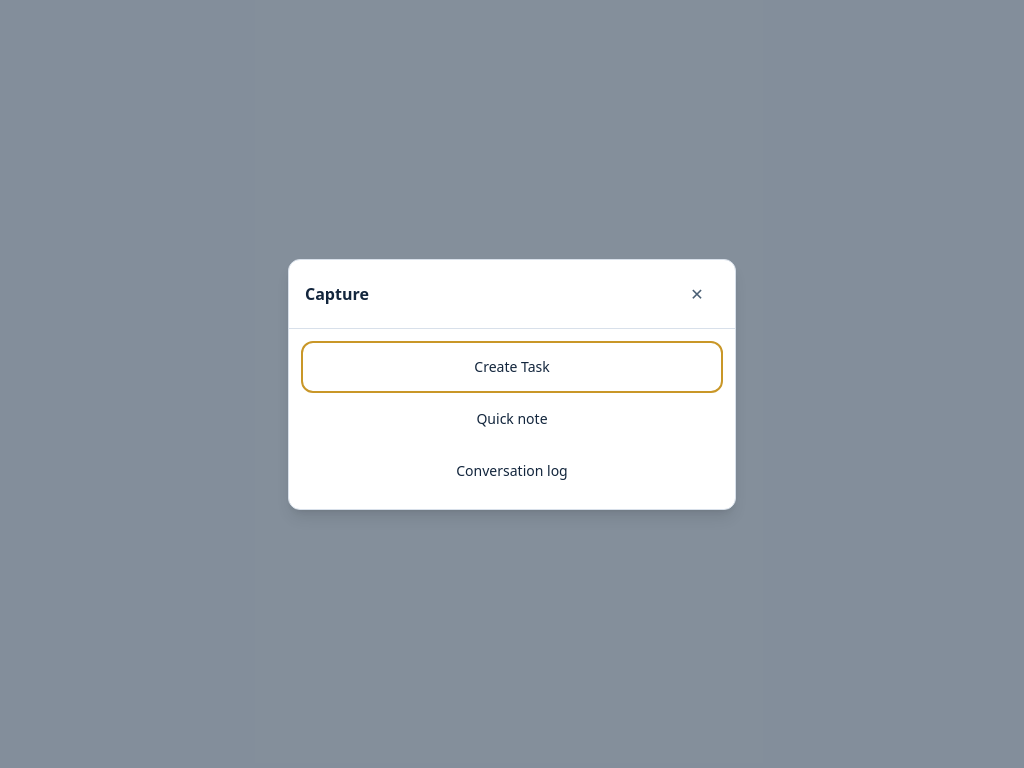
Test: a durable save › says saved, and only for a persisted receipt
The width and height of the screenshot is (1024, 768).
Click the button with test id "capture-choice-quick_note" at (512, 418), box [305,396,719,440]
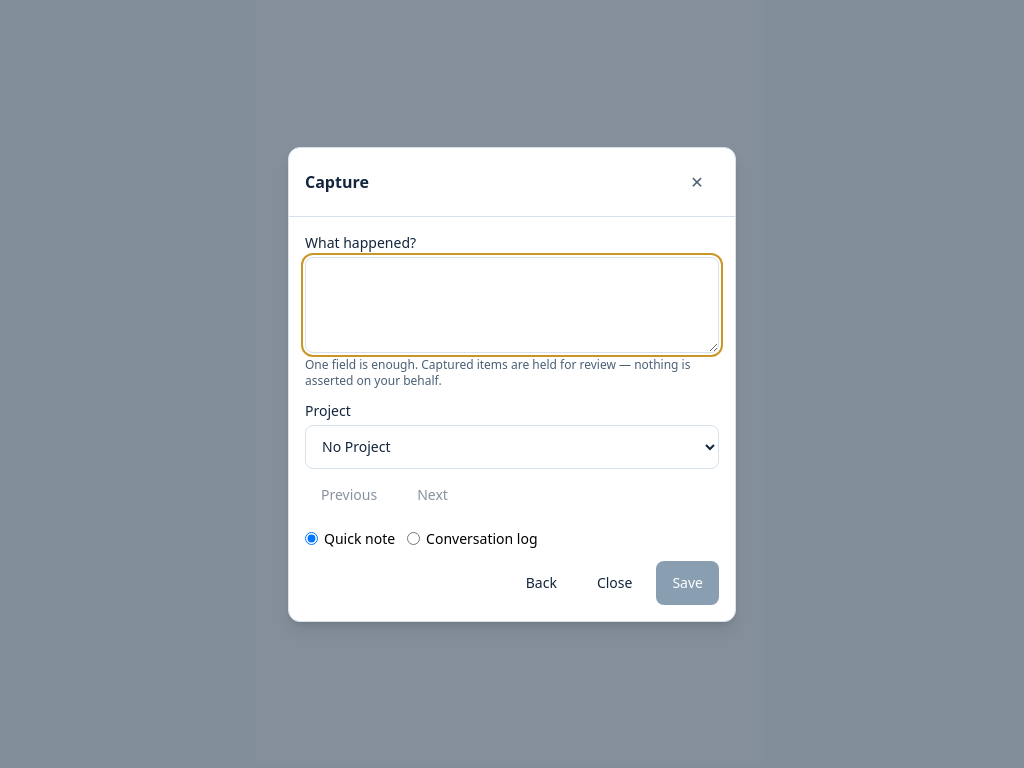
Type "synthetic note epsilon — flange tolerance review" into the text box with test id "capture-field" at (512, 304), box [305,256,719,352]
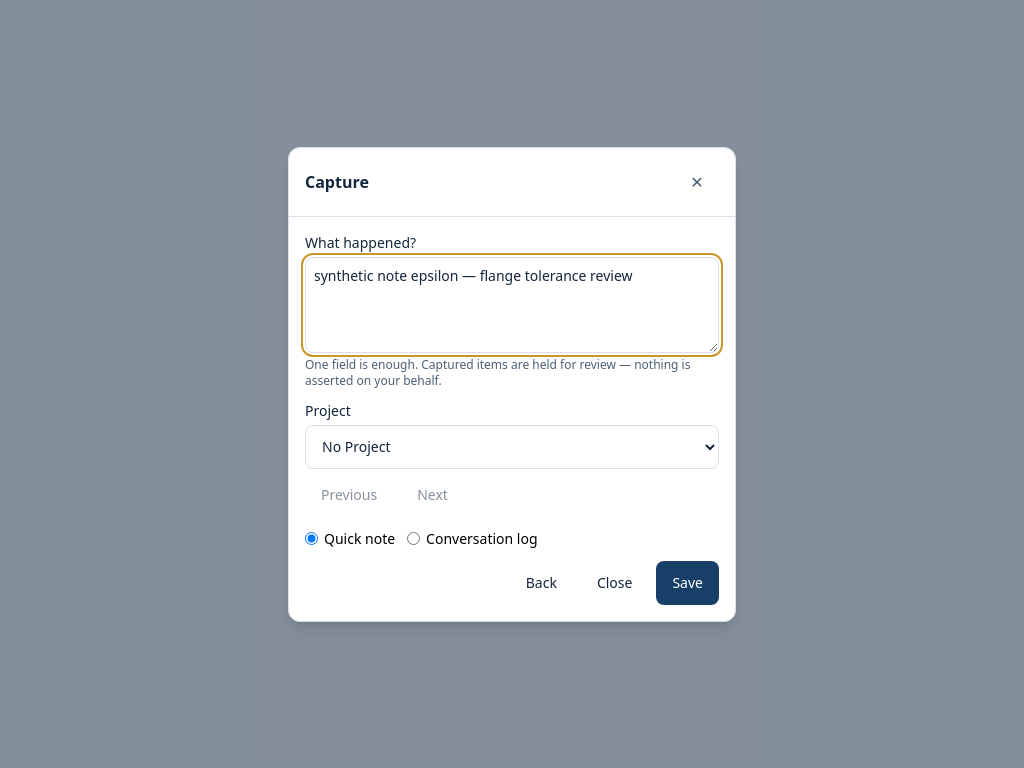
Click the button "Save" at (688, 582), box [656,560,719,604]
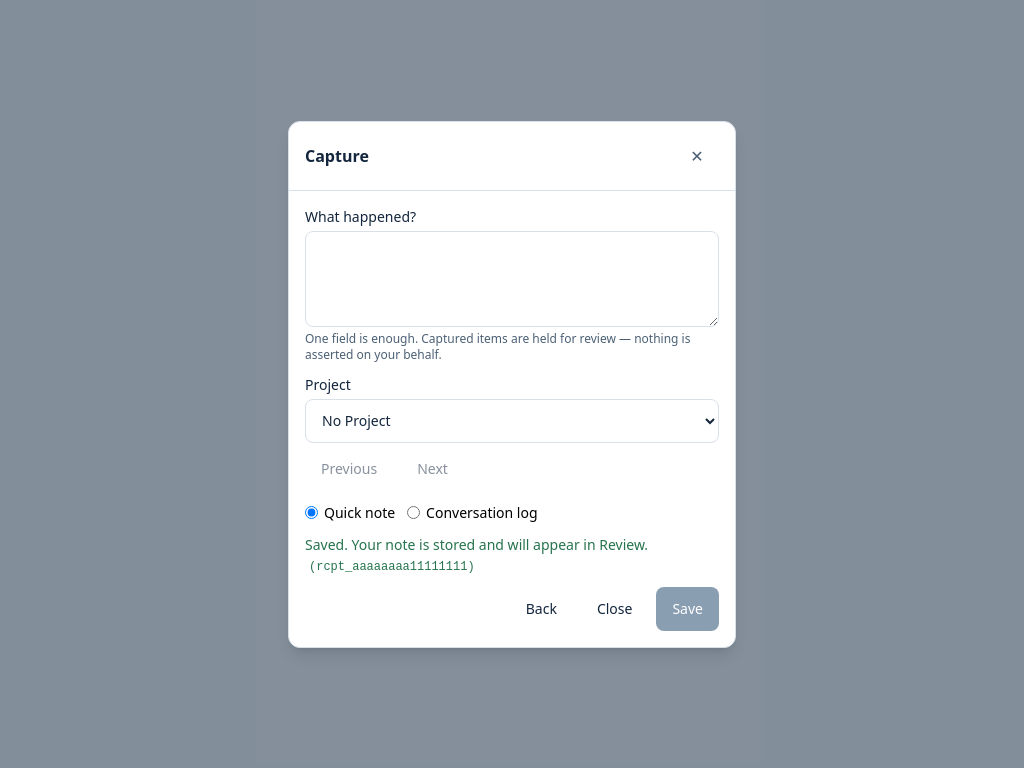
Expected: the message with test id "capture-durable" shows "Saved. Your note is stored", [305,534,648,554]
Expected: the message with test id "capture-durable" shows "rcpt_aaaaaaaa11111111", [316,560,467,574]
Expected: the text box with test id "capture-field" is empty, [305,230,719,326]
